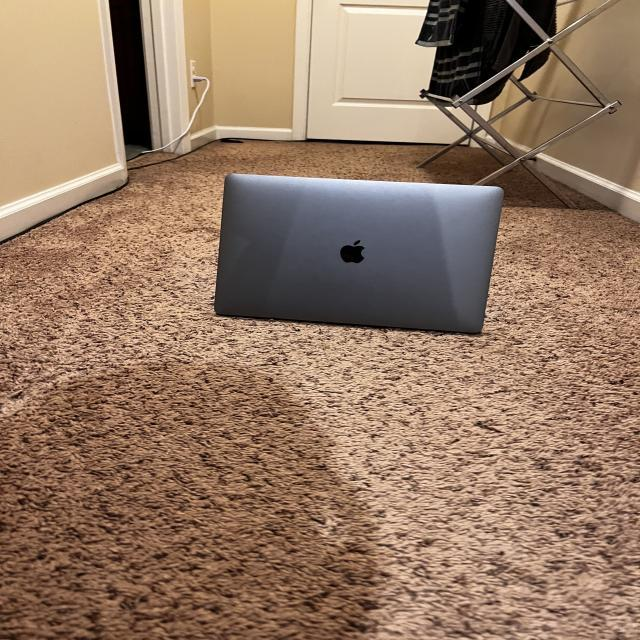laptop: (213, 171, 504, 334)
